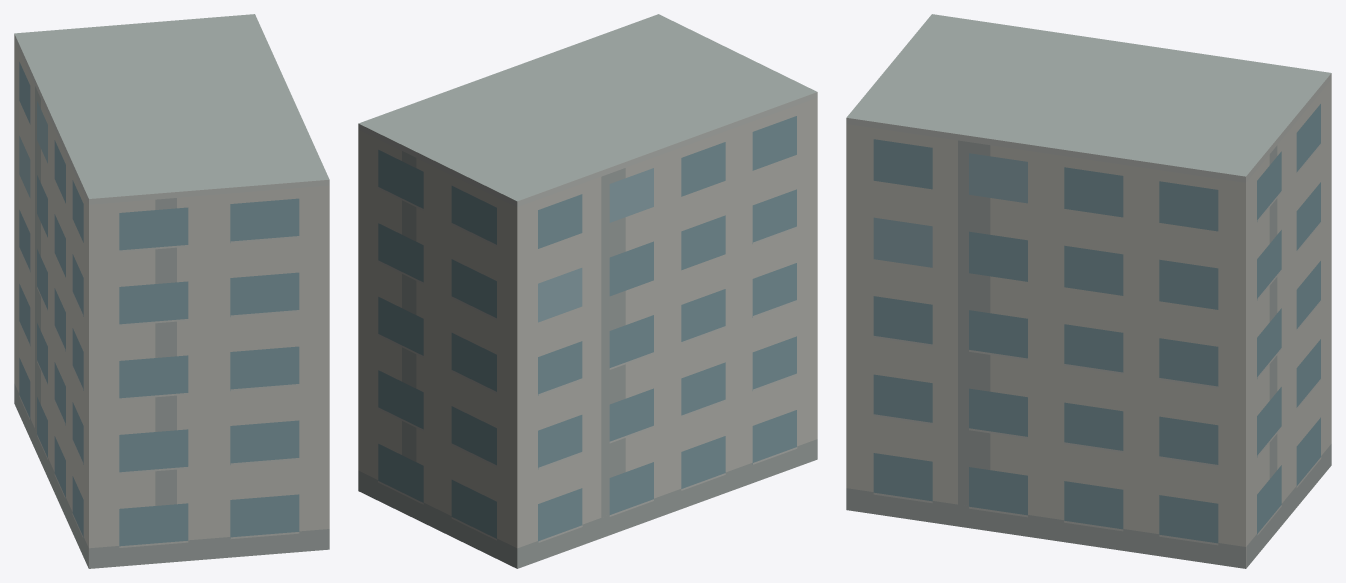
Rendered from residential-94639f68-da52-4a6b-a169-72ceb9b364a9.glb.
3 renders of one model, left to right at view 1: azimuth 30°, elevation 25°; view 2: azimuth 150°, elevation 25°; view 3: azimuth 270°, elevation 25°, orthographic. The views are drawn at different scales.
Visible parts, largest first — view 1: residential-94639f68-da52-4a6b-a169-72ceb9b364a9.tmp; view 2: residential-94639f68-da52-4a6b-a169-72ceb9b364a9.tmp; view 3: residential-94639f68-da52-4a6b-a169-72ceb9b364a9.tmp.
Part boxes in pixels (x1,y1,x2,y2): residential-94639f68-da52-4a6b-a169-72ceb9b364a9.tmp: [14, 14, 329, 568]; residential-94639f68-da52-4a6b-a169-72ceb9b364a9.tmp: [358, 14, 817, 568]; residential-94639f68-da52-4a6b-a169-72ceb9b364a9.tmp: [846, 14, 1331, 568].
Size of the model in its own units: 13.57 by 15.25 by 17.11.
